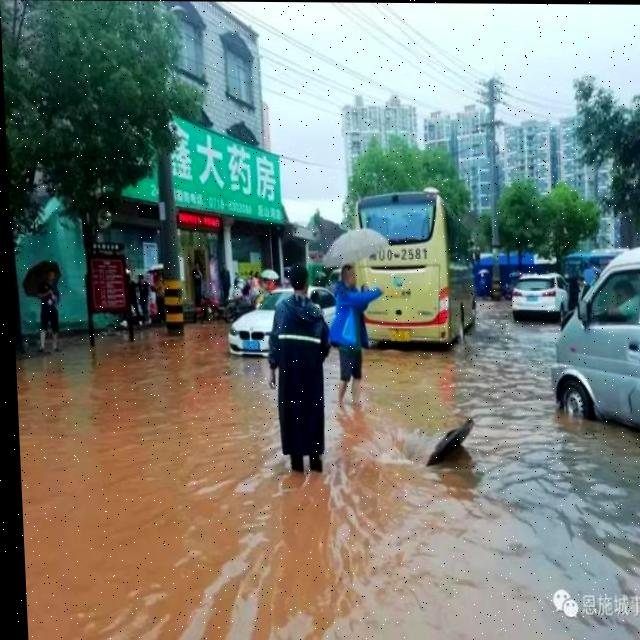civilian: (265, 265, 341, 483), (328, 262, 386, 407), (31, 265, 71, 349)
